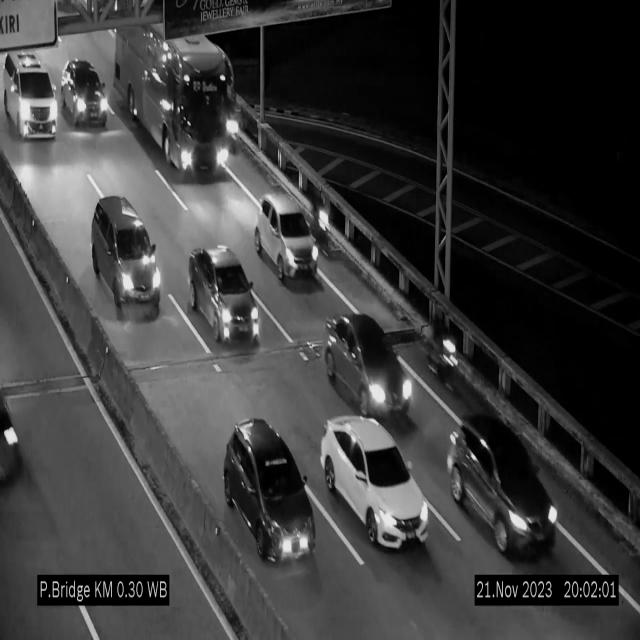Bus: (111, 24, 233, 182)
Car: (448, 412, 558, 556), (321, 416, 426, 548), (224, 418, 315, 559), (323, 308, 415, 430), (92, 196, 161, 318), (188, 245, 260, 344), (0, 44, 58, 146), (255, 192, 319, 284), (59, 55, 115, 136)
Motorcycle: (430, 313, 464, 394), (312, 188, 332, 256)
